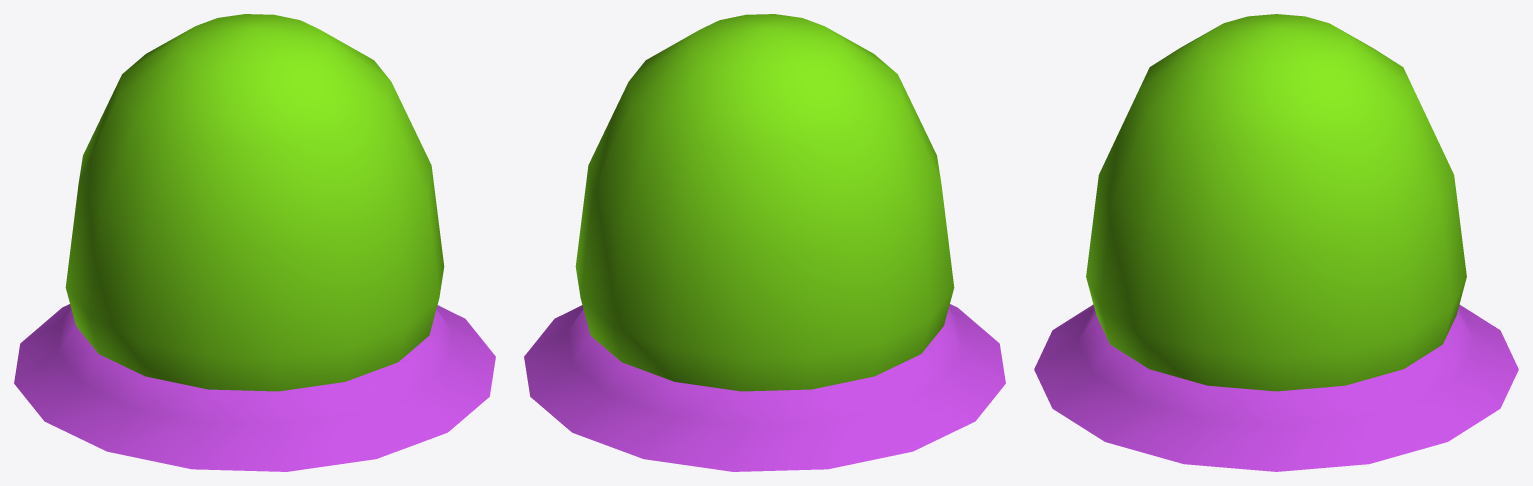
File: MESH_ENV_Prop_GunkEgg3_1x1.fbx
The picture shows the model from 3 angles, left to right: view 1: azimuth 30°, elevation 25°; view 2: azimuth 150°, elevation 25°; view 3: azimuth 270°, elevation 25°; orthographic projection.
Visible parts, largest first — view 1: Egg; view 2: Egg; view 3: Egg.
Part boxes in pixels (<box>): Egg: <box>14,14,495,471</box>; Egg: <box>524,14,1005,471</box>; Egg: <box>1034,14,1518,471</box>.
Bounding box in the file's own units: 1.2 × 1.11 × 1.2.
